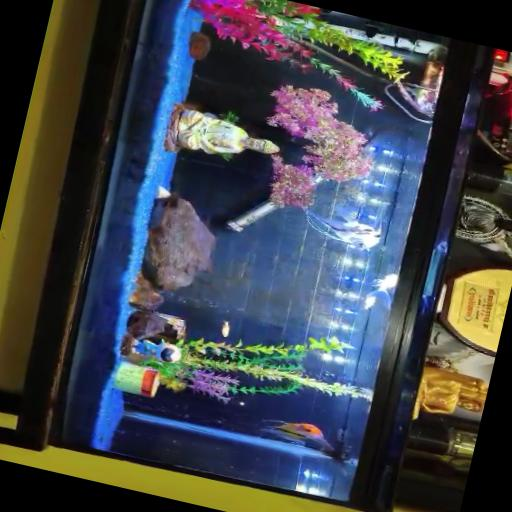Fish: (259, 419, 344, 462), (305, 207, 380, 249), (363, 273, 397, 308), (220, 320, 229, 336)
